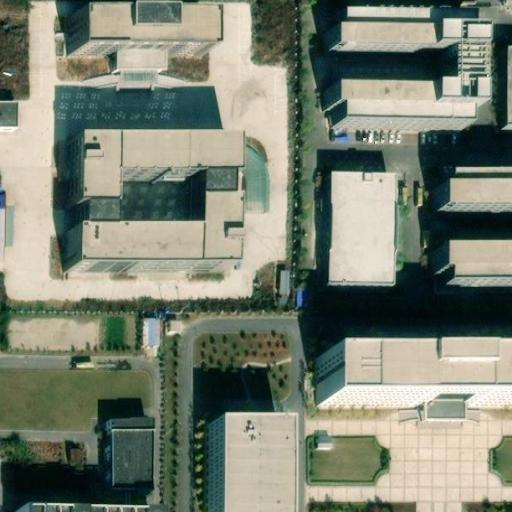building: (62, 140, 225, 269), (322, 13, 472, 127), (335, 353, 512, 398), (331, 171, 395, 284), (206, 425, 277, 512), (70, 16, 205, 51), (430, 248, 512, 287), (112, 418, 154, 487), (436, 176, 512, 210), (236, 144, 269, 215), (19, 500, 150, 512), (495, 44, 512, 129), (108, 51, 157, 71), (425, 398, 466, 419), (139, 314, 158, 347), (0, 98, 19, 130), (274, 265, 289, 295), (64, 442, 82, 462)
